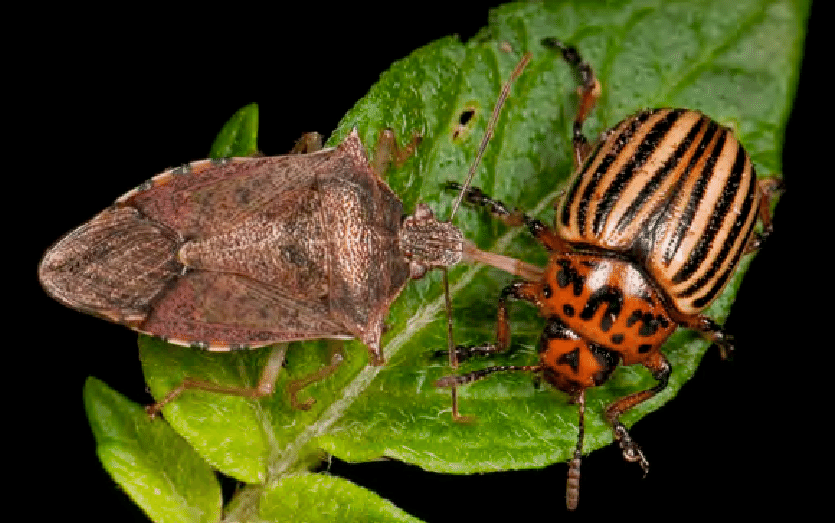hrosc: (519, 81, 752, 385)
